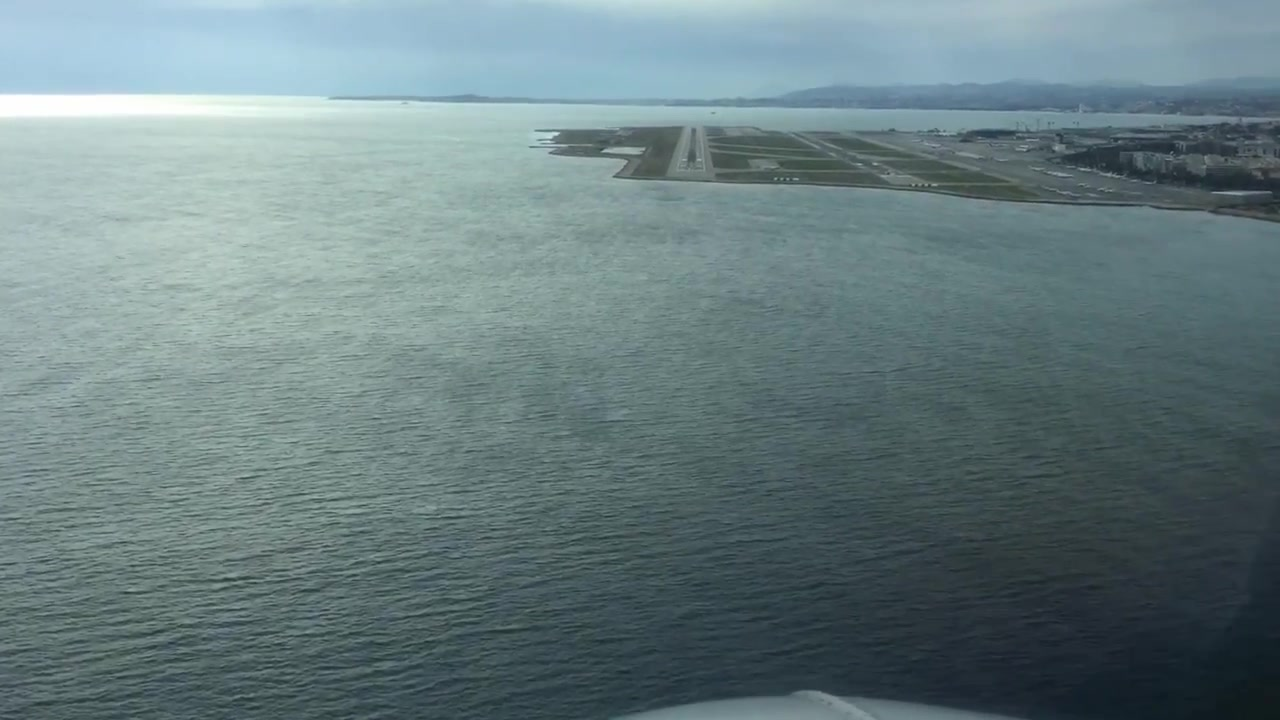runway: (791, 131, 931, 188), (665, 121, 715, 182)
